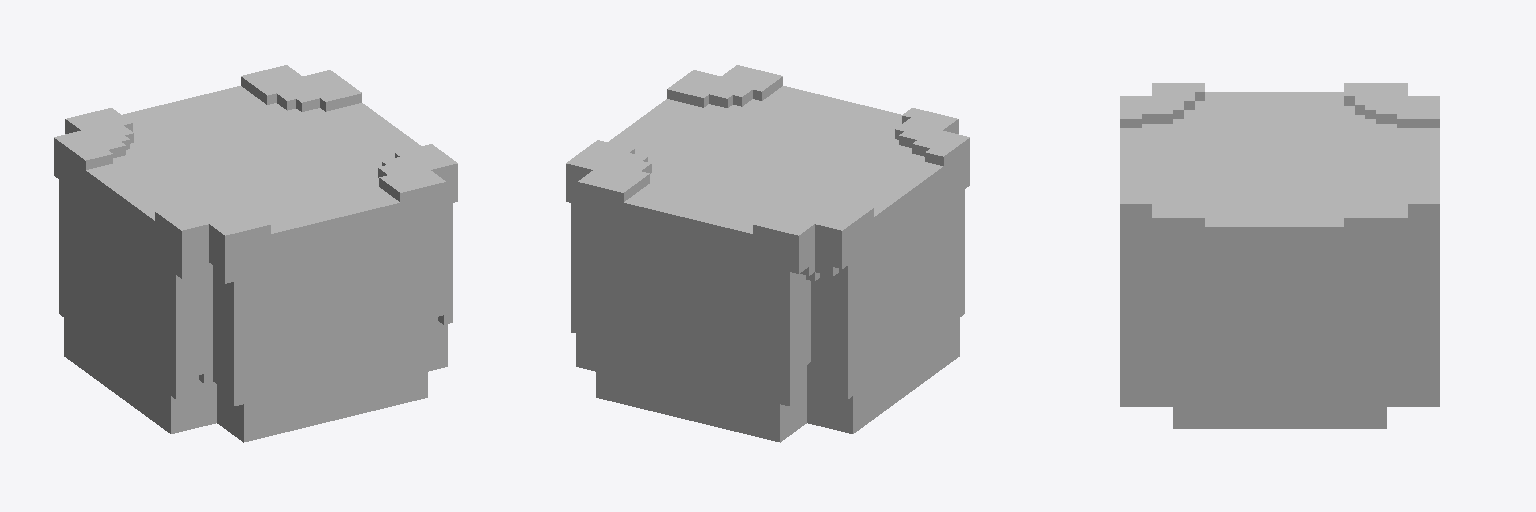
Rendered from straight.obj.
3 views of the same model, side by side, from view 1: azimuth 30°, elevation 25°; view 2: azimuth 150°, elevation 25°; view 3: azimuth 270°, elevation 25° (orthographic).
Visible parts, largest first — view 1: Untitled; view 2: Untitled; view 3: Untitled.
Part boxes in pixels (bbox=[...]): Untitled: bbox=[54, 65, 457, 442]; Untitled: bbox=[566, 65, 969, 442]; Untitled: bbox=[1120, 83, 1439, 428].
Bounding box in the file's own units: 1 × 0.73 × 1.